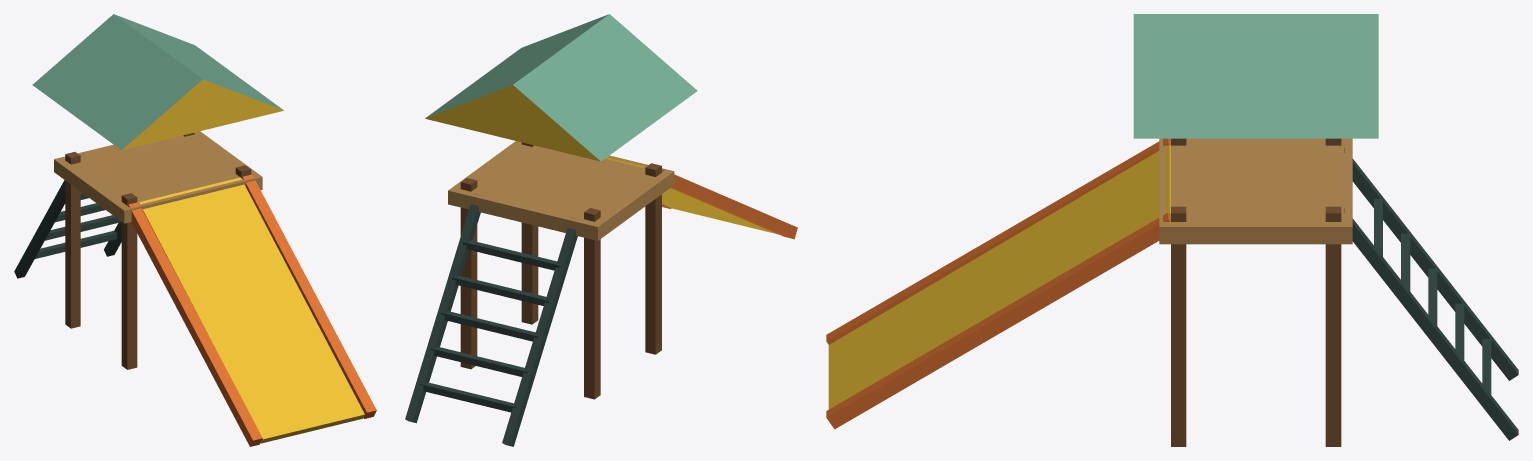
File: PlaySlide.obj
The picture shows the model from 3 angles, left to right: view 1: azimuth 30°, elevation 25°; view 2: azimuth 150°, elevation 25°; view 3: azimuth 270°, elevation 25°; orthographic projection. The views are drawn at different scales.
Parts seen in each view (by area): view 1: PlaySlide; view 2: PlaySlide; view 3: PlaySlide.
Part boxes in pixels (<box>): PlaySlide: <box>14,14,376,446</box>; PlaySlide: <box>405,14,797,446</box>; PlaySlide: <box>826,14,1518,446</box>.
Size of the model in its own units: 2 by 3.38 by 5.37.
Materials: 1 (1 with a texture image).
